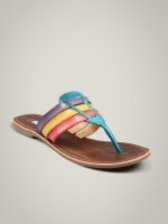shoes: (7, 89, 154, 173)
